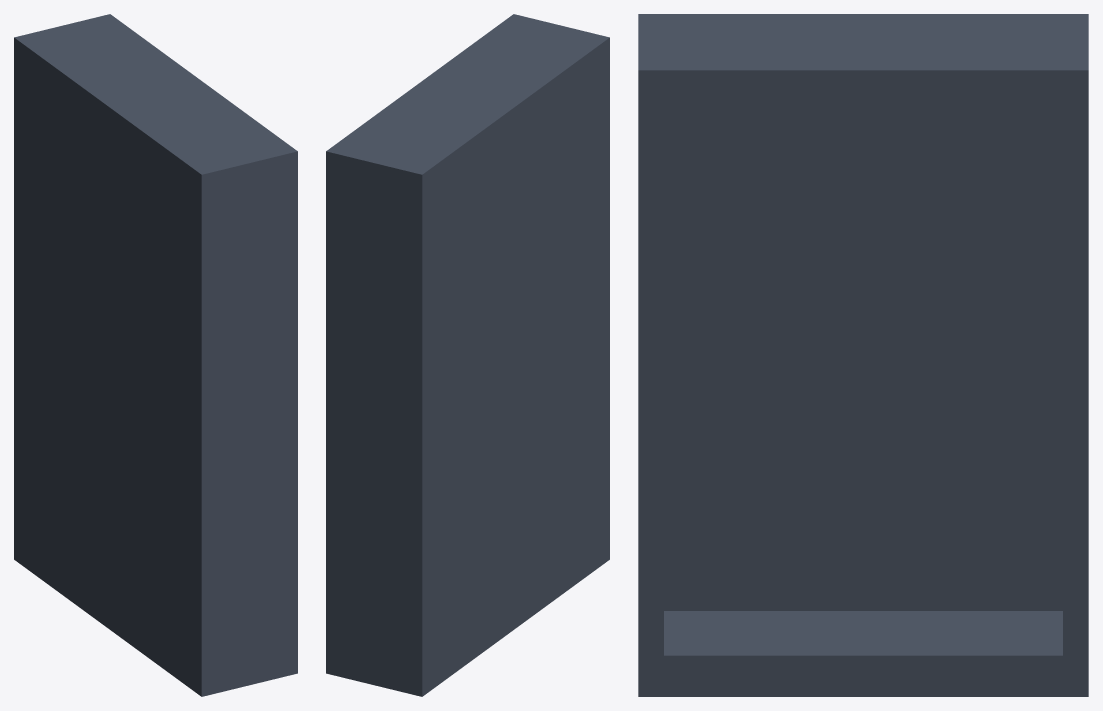
Rendered from hydrant_body.fbx.
The picture shows the model from 3 angles, left to right: view 1: azimuth 30°, elevation 25°; view 2: azimuth 150°, elevation 25°; view 3: azimuth 270°, elevation 25°; orthographic projection. The views are drawn at different scales.
Parts seen in each view (by area): view 1: Cube; view 2: Cube; view 3: Cube.
Part boxes in pixels (x1,y1,x2,y2): Cube: [14, 14, 297, 696]; Cube: [326, 14, 609, 696]; Cube: [638, 14, 1088, 696].
Bounding box in the file's own units: 254 × 1317 × 858.
